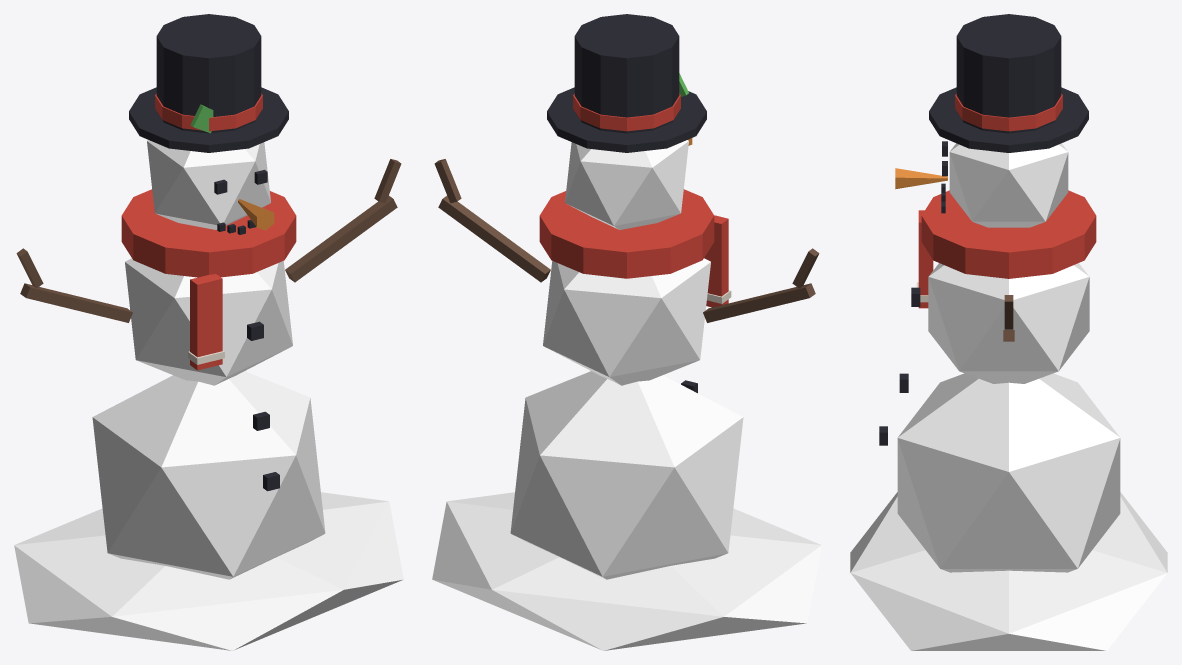
File: CatCafe_Decor_Snowman.glb
3 views of the same model, side by side, from view 1: azimuth 30°, elevation 25°; view 2: azimuth 150°, elevation 25°; view 3: azimuth 270°, elevation 25° (orthographic).
Parts seen in each view (by area): view 1: CatCafe_Decor_Snowman; view 2: CatCafe_Decor_Snowman; view 3: CatCafe_Decor_Snowman.
Part boxes in pixels (x1,y1,x2,y2): CatCafe_Decor_Snowman: (14,14,403,650); CatCafe_Decor_Snowman: (432,14,821,650); CatCafe_Decor_Snowman: (850,14,1167,650).
Size of the model in its own units: 3.02 by 4.28 by 2.18.
Materials: 1 (1 with a texture image).
